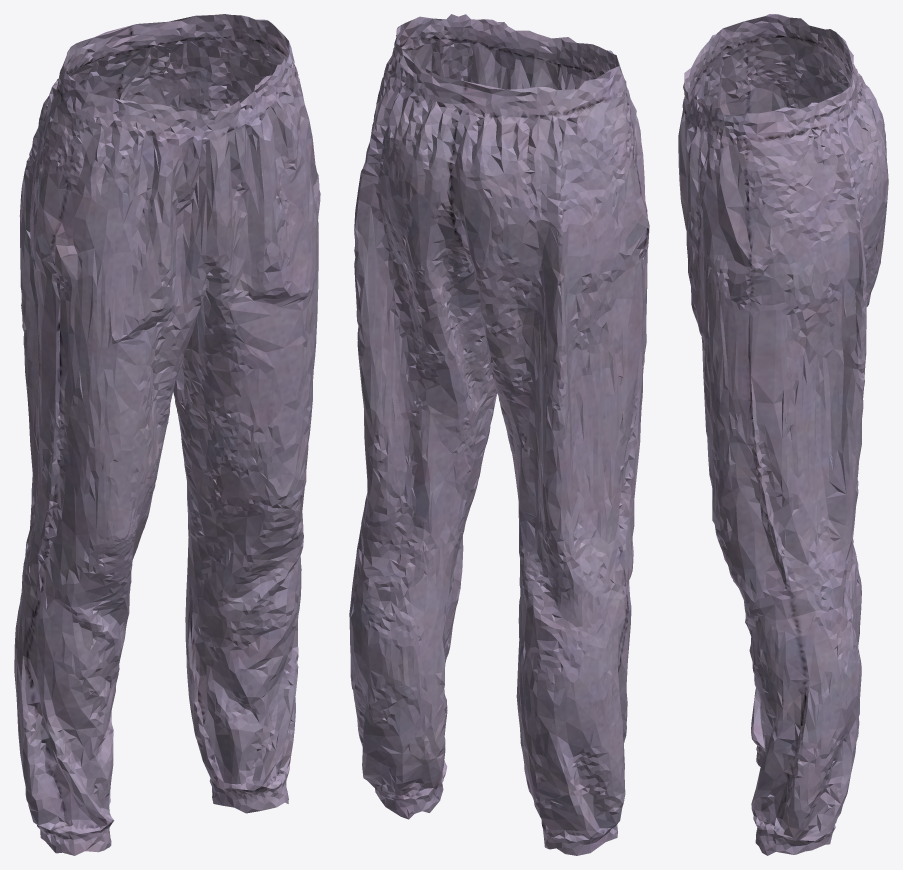
Rendered from garment_00002_.glb.
3 renders of one model, left to right at view 1: azimuth 30°, elevation 25°; view 2: azimuth 150°, elevation 25°; view 3: azimuth 270°, elevation 25°, orthographic. The views are drawn at different scales.
Visible parts, largest first — view 1: geometry_0; view 2: geometry_0; view 3: geometry_0.
Part boxes in pixels (x1,y1,x2,y2): geometry_0: (14, 14, 320, 855); geometry_0: (349, 14, 649, 855); geometry_0: (678, 14, 888, 855).
Size of the model in its own units: 0.361 by 1 by 0.2548.
Materials: 1 (1 with a texture image).
